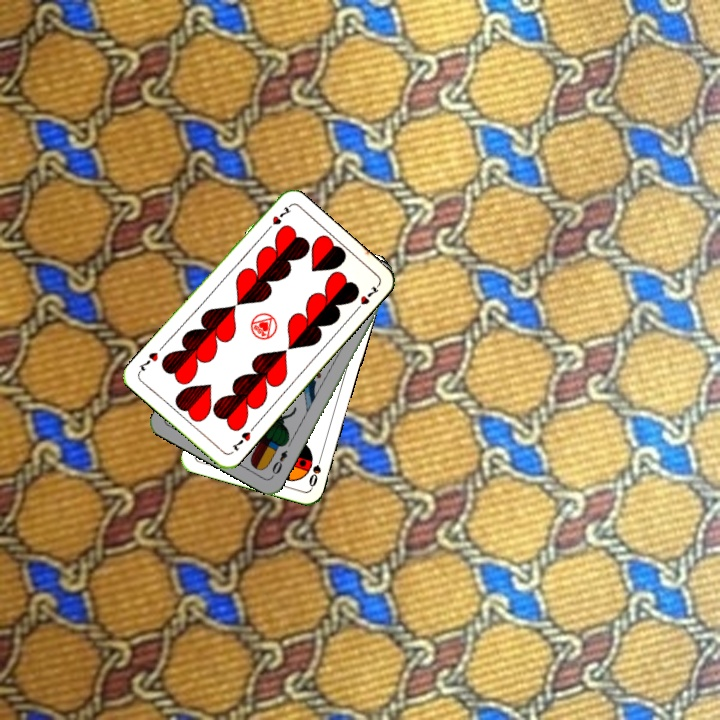EO: (268, 446, 290, 477)
H7: (261, 202, 293, 235), (228, 427, 253, 453)
SO: (305, 450, 325, 490)
